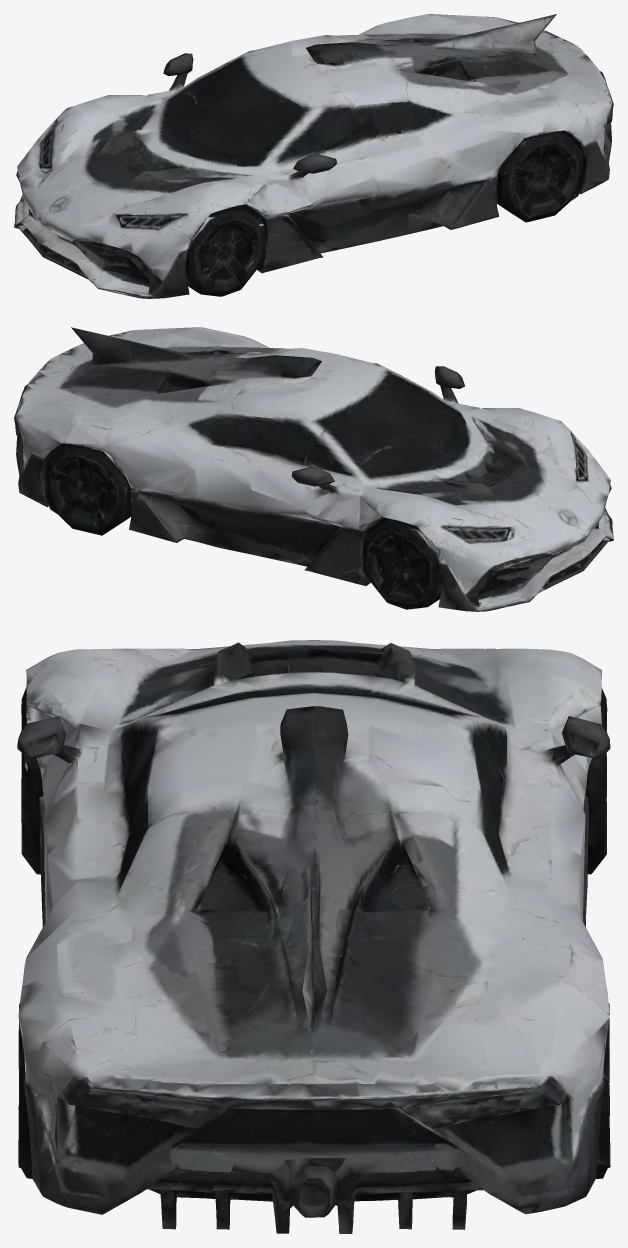
The model's file is mercedes-amg-one-white.glb.
3 renders of one model, top to bottom at view 1: azimuth 30°, elevation 25°; view 2: azimuth 150°, elevation 25°; view 3: azimuth 270°, elevation 25°, orthographic. The views are drawn at different scales.
Size of the model in its own units: 1.9 by 0.5201 by 0.9049.
Materials: 1 (1 with a texture image).
